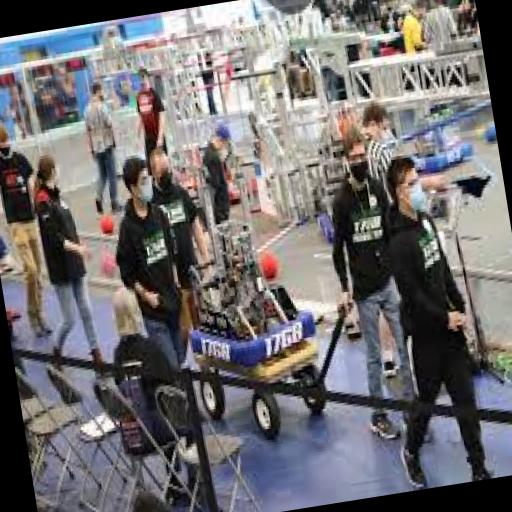robot: (162, 153, 322, 375), (302, 99, 380, 241), (390, 86, 472, 178), (206, 120, 262, 204), (158, 116, 208, 202)
